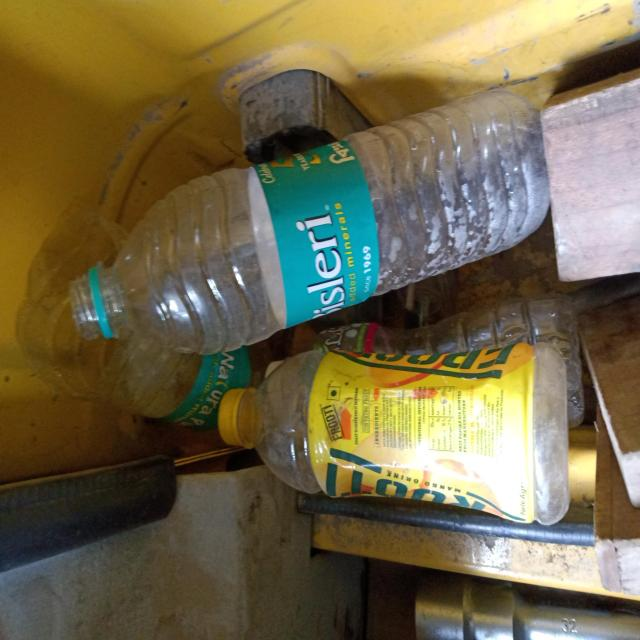bottle: (67, 81, 543, 352), (217, 345, 568, 525)
